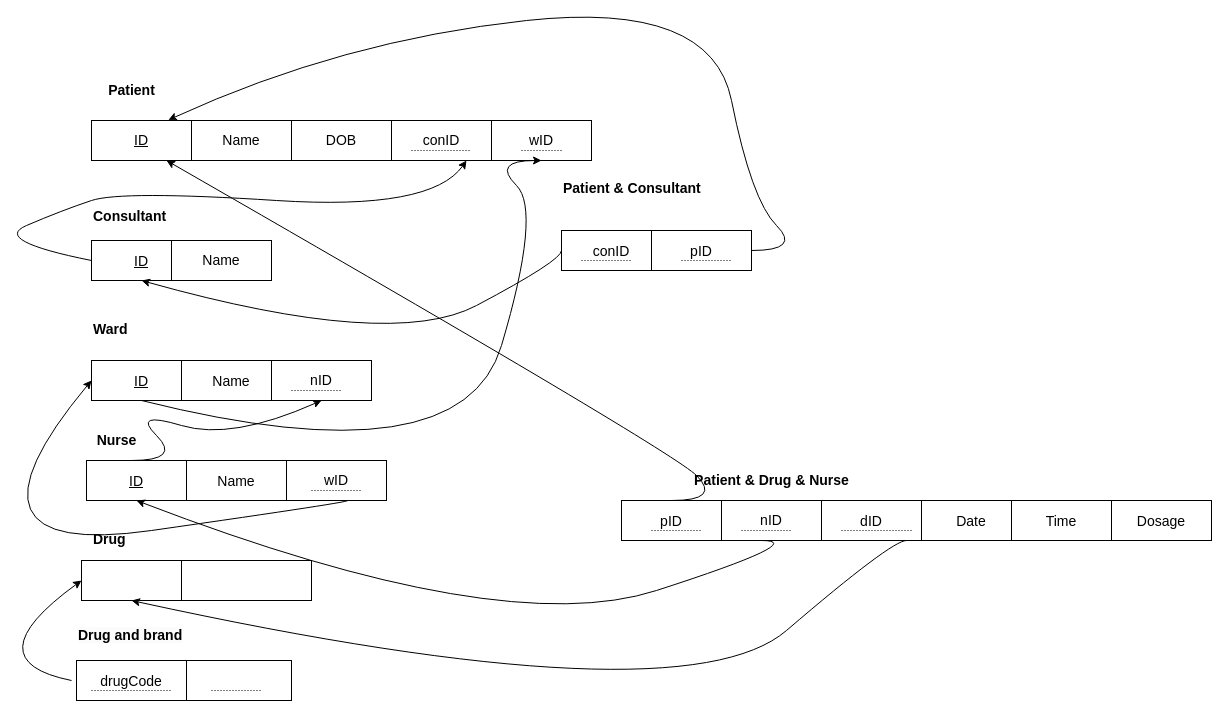
The diagram is 1230 pixels wide and 719 high, and some of its shapes have lost their labels. The box of each missing label's shape, as (x1, y1, x2, y2) in pixels:
Brand: (180, 660, 292, 700)
Code: (80, 560, 182, 600)
RecDosage: (180, 560, 312, 600)
